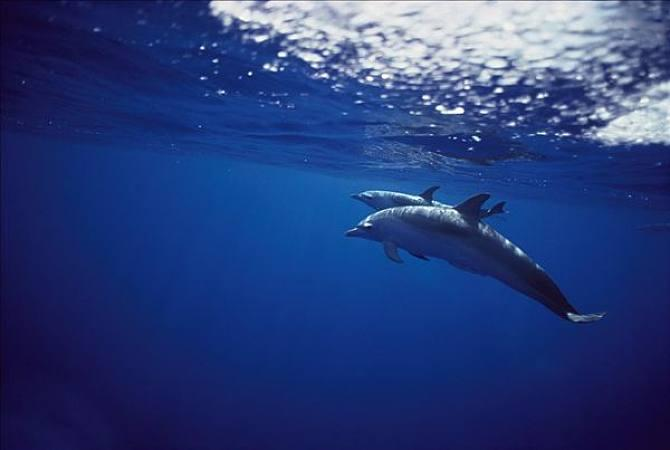fish: (348, 206, 607, 324), (346, 178, 512, 218)
